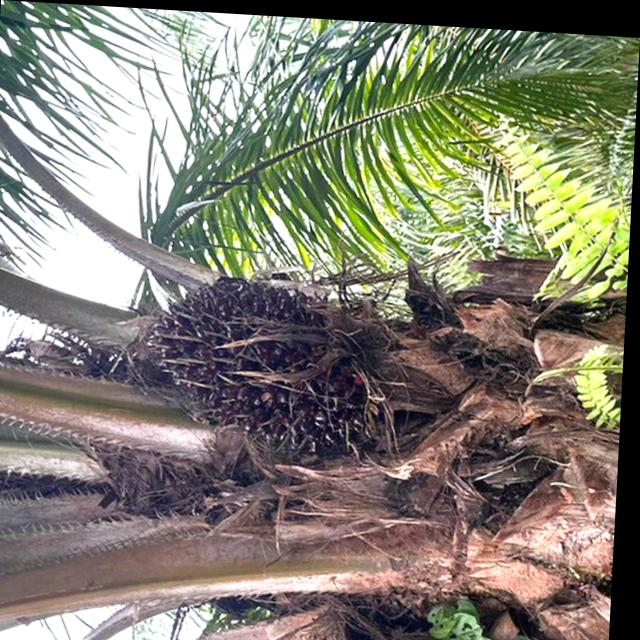ripe: (135, 255, 405, 464)
